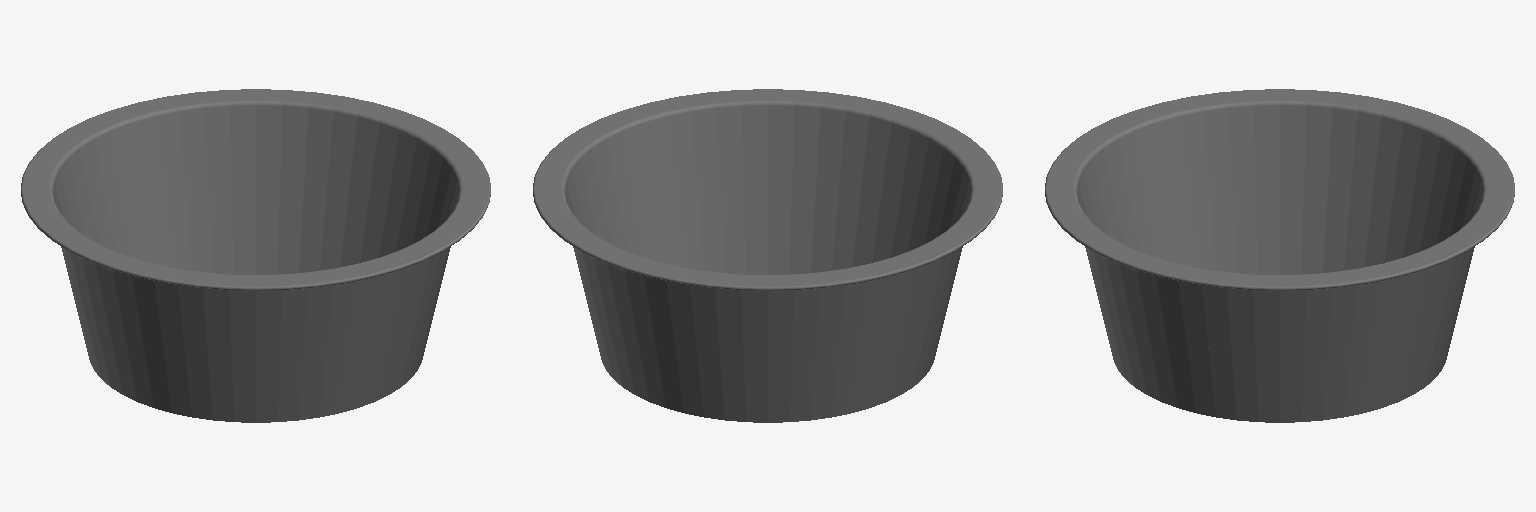
The robot description file, URDF, robot "object":
<?xml version="1.0"?>
<robot name="object">
  <link name="object">
    <visual>
      <origin xyz="0 0 0"/>
      <geometry>
        <mesh
          filename="../../mesh/oakink_virtual/bowl_s173.stl" />
      </geometry>
      <material name="mat">
        <color rgba="0.5 0.5 0.5 1"/>
      </material>
    </visual>

    <collision>
      <origin xyz="0 0 0"/>
      <geometry>
        <mesh
          filename="../../mesh/oakink_virtual/bowl_s173.stl" />
      </geometry>
    </collision>
  </link>
</robot>

--- What the picture shows (computed from the rendered views, not written in the file) ---
Views: 3 orthographic renders of the robot side by side, from view 1: azimuth 30°, elevation 25°; view 2: azimuth 150°, elevation 25°; view 3: azimuth 270°, elevation 25°.
Model object with 1 links and 0 joints (none), rooted at object, posed every joint at zero.
Visible links, largest first — view 1: object; view 2: object; view 3: object.
Boxes of the visible links, x1=… form: object: x1=21, y1=89, x2=490, y2=422; object: x1=533, y1=89, x2=1002, y2=422; object: x1=1045, y1=89, x2=1514, y2=422.
Size in the robot's own frame: 0.1414 by 0.1414 by 0.0544 metres.
Meshes: 1 distinct files referenced, 1 mesh visuals loaded (1 binary STL).